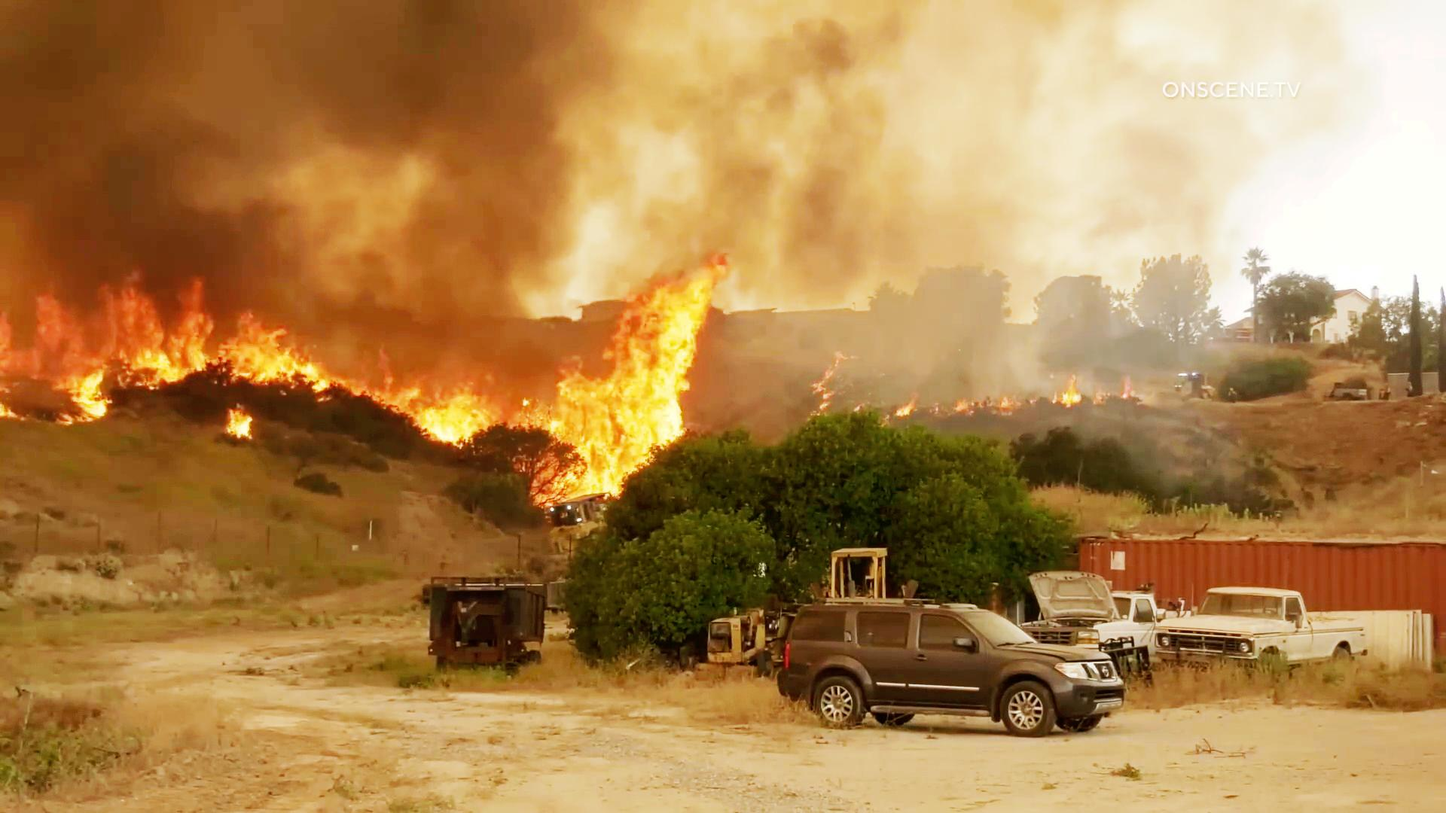fire: (511, 239, 700, 493), (0, 288, 341, 413)
smoke: (0, 15, 757, 222)
